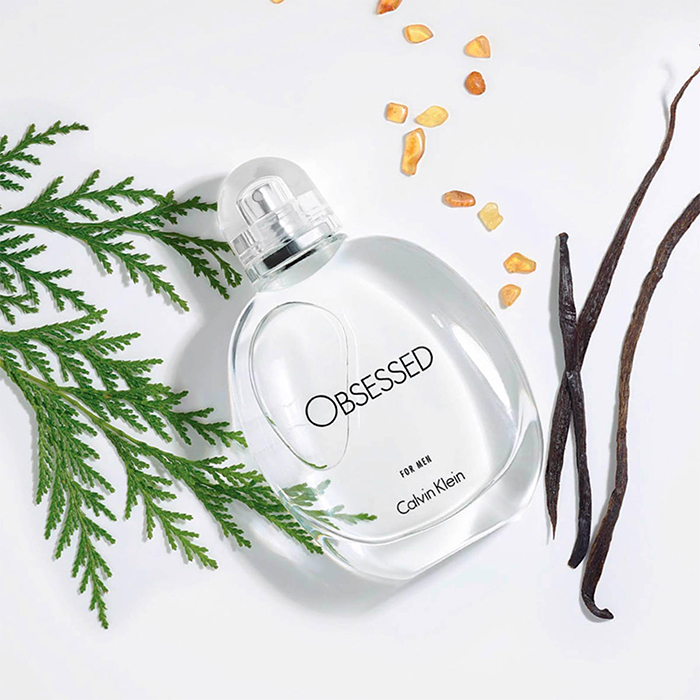Calvin Klein: (383, 468, 487, 516)
